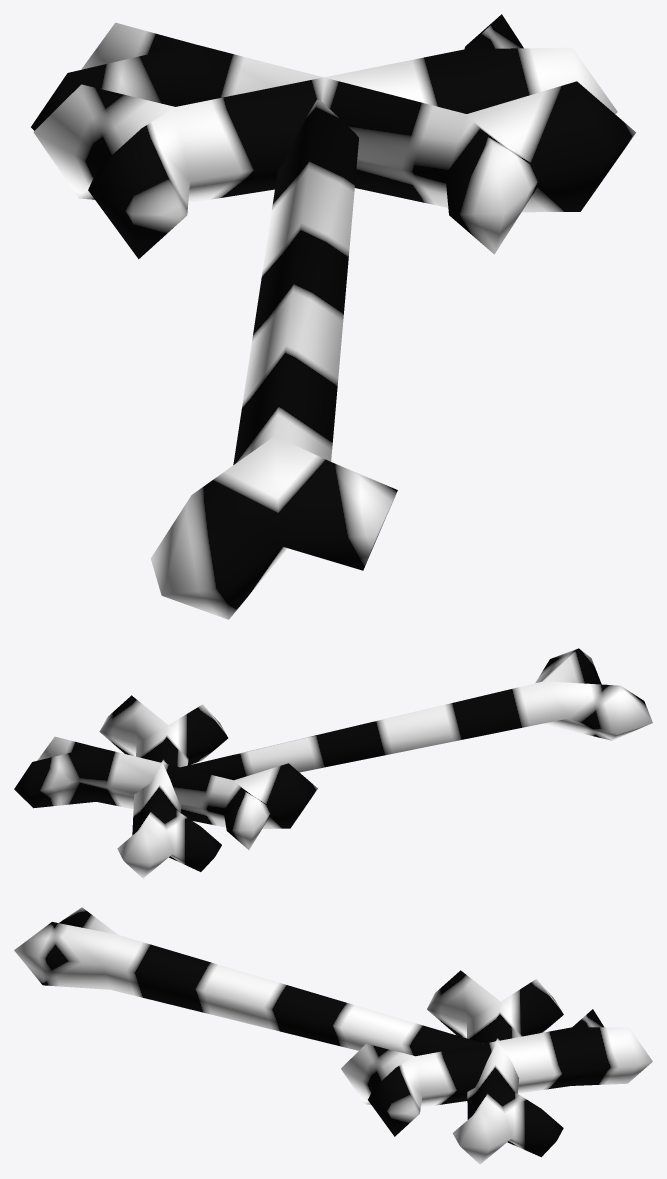
The model's file is initqu56.dae.
The picture shows the model from 3 angles, top to bottom: view 1: azimuth 30°, elevation 25°; view 2: azimuth 150°, elevation 25°; view 3: azimuth 270°, elevation 25°; orthographic projection. The views are drawn at different scales.
Visible parts, largest first — view 1: item; view 2: item; view 3: item.
Part boxes in pixels (box(x1,y1,x2,y2)): item: box(31, 14, 635, 619); item: box(14, 648, 652, 878); item: box(14, 907, 652, 1164).
Size of the model in its own units: 1.38 by 1.73 by 0.2456.
1 material, 1 textured.
